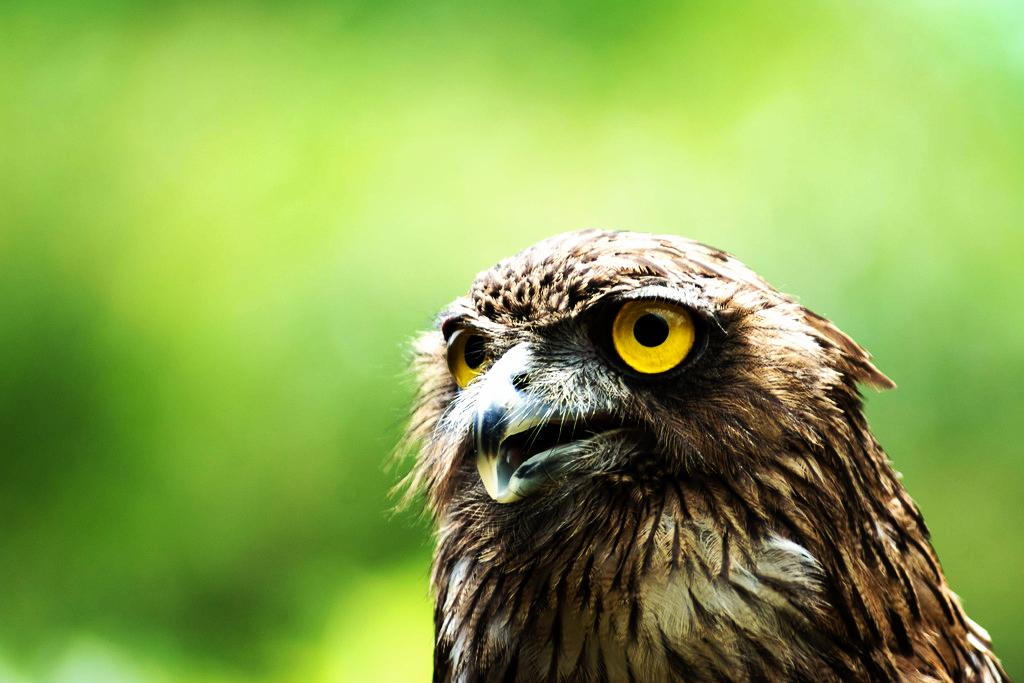Owl: (378, 228, 1014, 683)
